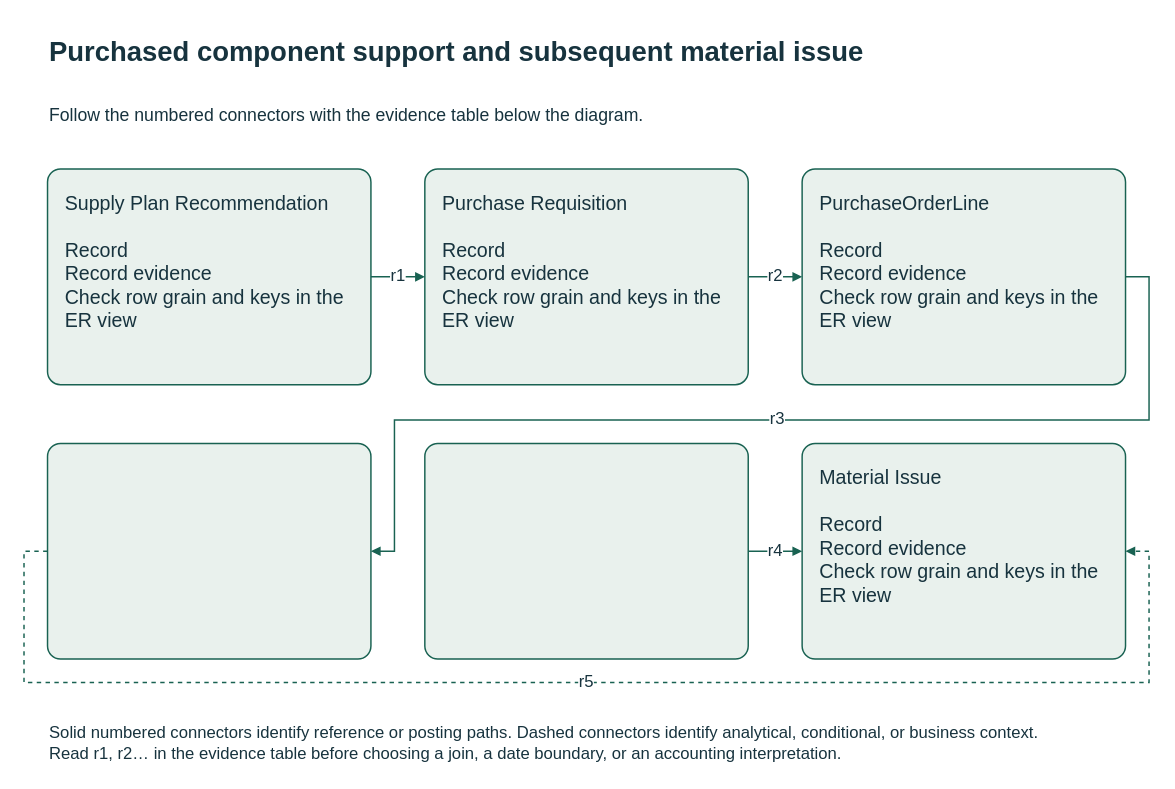
The diagram is 1175 pixels wide and 789 high, and some of its shapes have lost their labels. Each missing label, with the centre of its shape:
GoodsReceiptLine Record Record evidence Check row grain and keys in the ER view: (x=208, y=550)
Work Order Record Record evidence Check row grain and keys in the ER view: (x=586, y=550)
